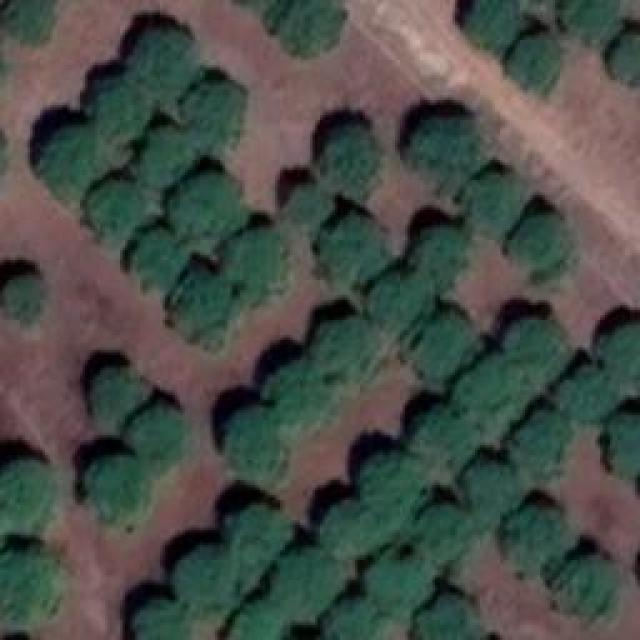Tree: (220, 223, 285, 298), (85, 455, 150, 525), (0, 545, 58, 623), (497, 510, 565, 575), (225, 403, 288, 473), (415, 120, 478, 190), (0, 458, 60, 531), (463, 353, 523, 426), (273, 550, 338, 615), (548, 555, 613, 620), (178, 545, 238, 615), (408, 313, 471, 378), (223, 503, 286, 566), (170, 175, 235, 235), (273, 363, 333, 426), (40, 128, 98, 193), (278, 0, 353, 50), (323, 215, 376, 285), (135, 30, 198, 88), (363, 450, 423, 510), (98, 75, 153, 140), (412, 405, 470, 465), (507, 218, 565, 278), (187, 80, 245, 140), (503, 32, 563, 90), (370, 553, 425, 616), (558, 365, 621, 420), (313, 320, 378, 373), (173, 273, 226, 338), (513, 415, 566, 478), (135, 130, 188, 193), (133, 405, 188, 465), (370, 268, 428, 323), (283, 178, 333, 241), (323, 130, 376, 188), (135, 230, 180, 298), (325, 500, 380, 553), (415, 500, 465, 558), (513, 317, 563, 375), (85, 368, 138, 421), (557, 0, 615, 48), (412, 225, 460, 280), (465, 463, 513, 516), (92, 180, 140, 233), (230, 595, 283, 640), (420, 595, 473, 640), (468, 175, 513, 228), (130, 600, 188, 640), (325, 595, 373, 640), (2, 0, 49, 42), (460, 0, 507, 42), (600, 35, 640, 83), (607, 415, 640, 472), (605, 323, 640, 376), (0, 278, 45, 318)
